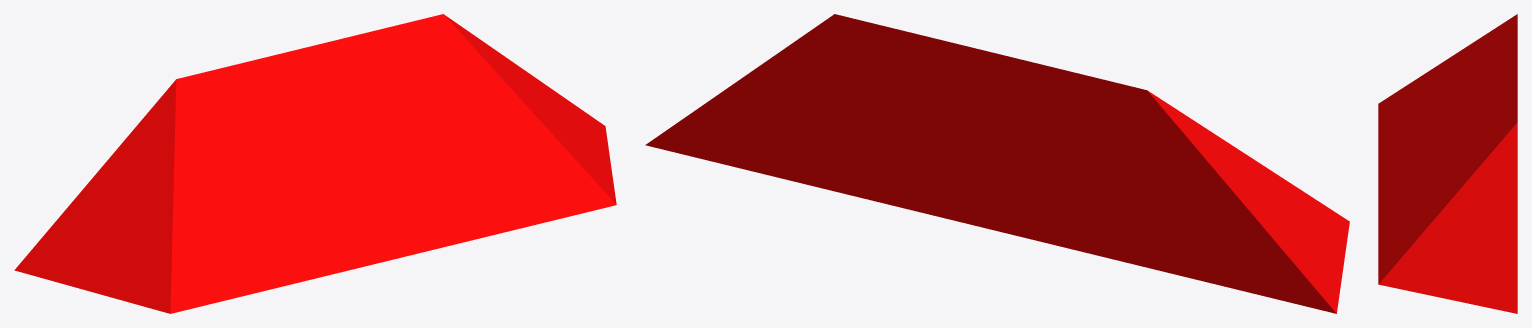
Rendered from bay_roof.fbx.
The picture shows the model from 3 angles, left to right: view 1: azimuth 30°, elevation 25°; view 2: azimuth 150°, elevation 25°; view 3: azimuth 270°, elevation 25°; orthographic projection. The views are drawn at different scales.
Visible parts, largest first — view 1: Mesh1_Component_3_1 Model; view 2: Mesh1_Component_3_1 Model; view 3: Mesh1_Component_3_1 Model.
Boxes of the visible parts, x1,y1,x2,y2 form: Mesh1_Component_3_1 Model: (14,14,616,313); Mesh1_Component_3_1 Model: (645,14,1349,313); Mesh1_Component_3_1 Model: (1378,14,1517,313).
Bounding box in the file's own units: 1.22 × 0.3 × 0.3.
